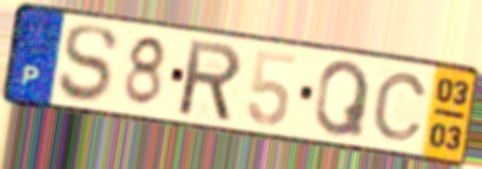5: (245, 47, 300, 128)
8: (120, 33, 167, 110)
C: (369, 70, 431, 143)
Q: (312, 58, 373, 141)
R: (178, 37, 244, 125)
S: (56, 24, 121, 105)
